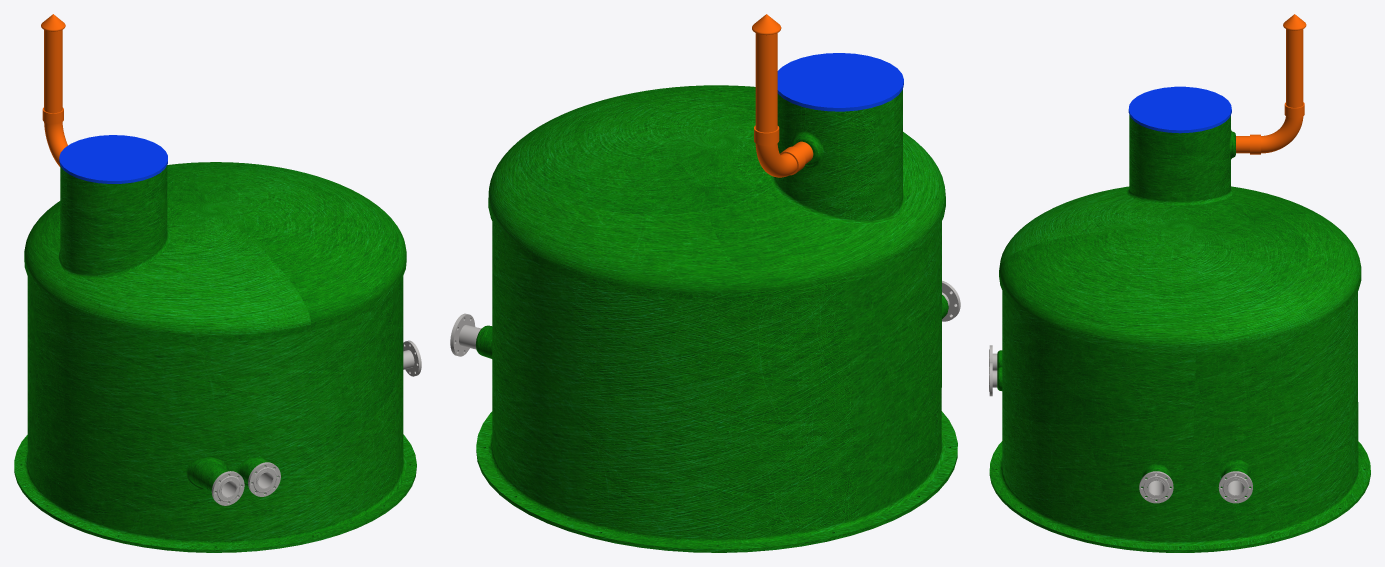
The model's file is ECOWARD_W-B1-4.glb.
The picture shows the model from 3 angles, left to right: view 1: azimuth 30°, elevation 25°; view 2: azimuth 150°, elevation 25°; view 3: azimuth 270°, elevation 25°; orthographic projection. The views are drawn at different scales.
Visible parts, largest first — view 1: Твердое тело1, Твердое тело2, Solid1 (×2), Твердое тело4; view 2: Твердое тело1, Твердое тело2, Твердое тело4; view 3: Твердое тело1, Solid1 (×2), Твердое тело2, Твердое тело4.
Boxes of the visible parts, bbox=[...] form: Твердое тело1: bbox=[14, 135, 416, 552]; Твердое тело2: bbox=[44, 30, 62, 113]; Solid1 (×2): bbox=[211, 462, 280, 505]; Твердое тело4: bbox=[42, 107, 67, 166]; Твердое тело1: bbox=[475, 53, 957, 552]; Твердое тело2: bbox=[755, 33, 777, 132]; Твердое тело4: bbox=[754, 125, 805, 177]; Твердое тело1: bbox=[989, 86, 1370, 552]; Solid1 (×2): bbox=[1139, 471, 1252, 503]; Твердое тело2: bbox=[1286, 29, 1303, 107]; Твердое тело4: bbox=[1250, 102, 1304, 154].
Size of the model in its own units: 2.47 by 2.86 by 2.4.
Materials: 8 (2 with a texture image).
